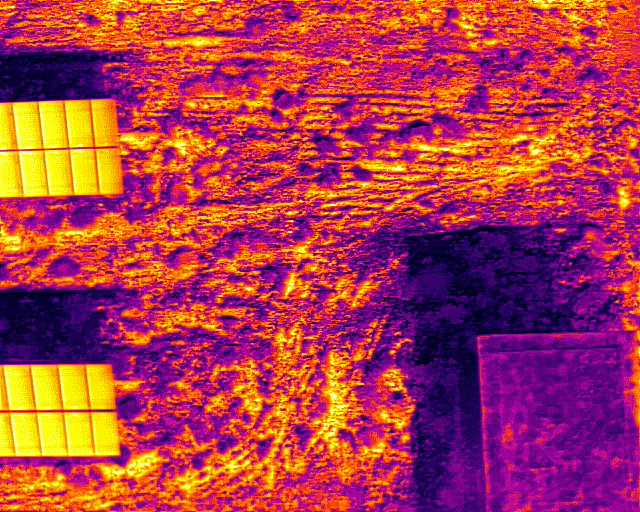photovoltaic_panels: (1, 97, 125, 199), (1, 362, 123, 458)
